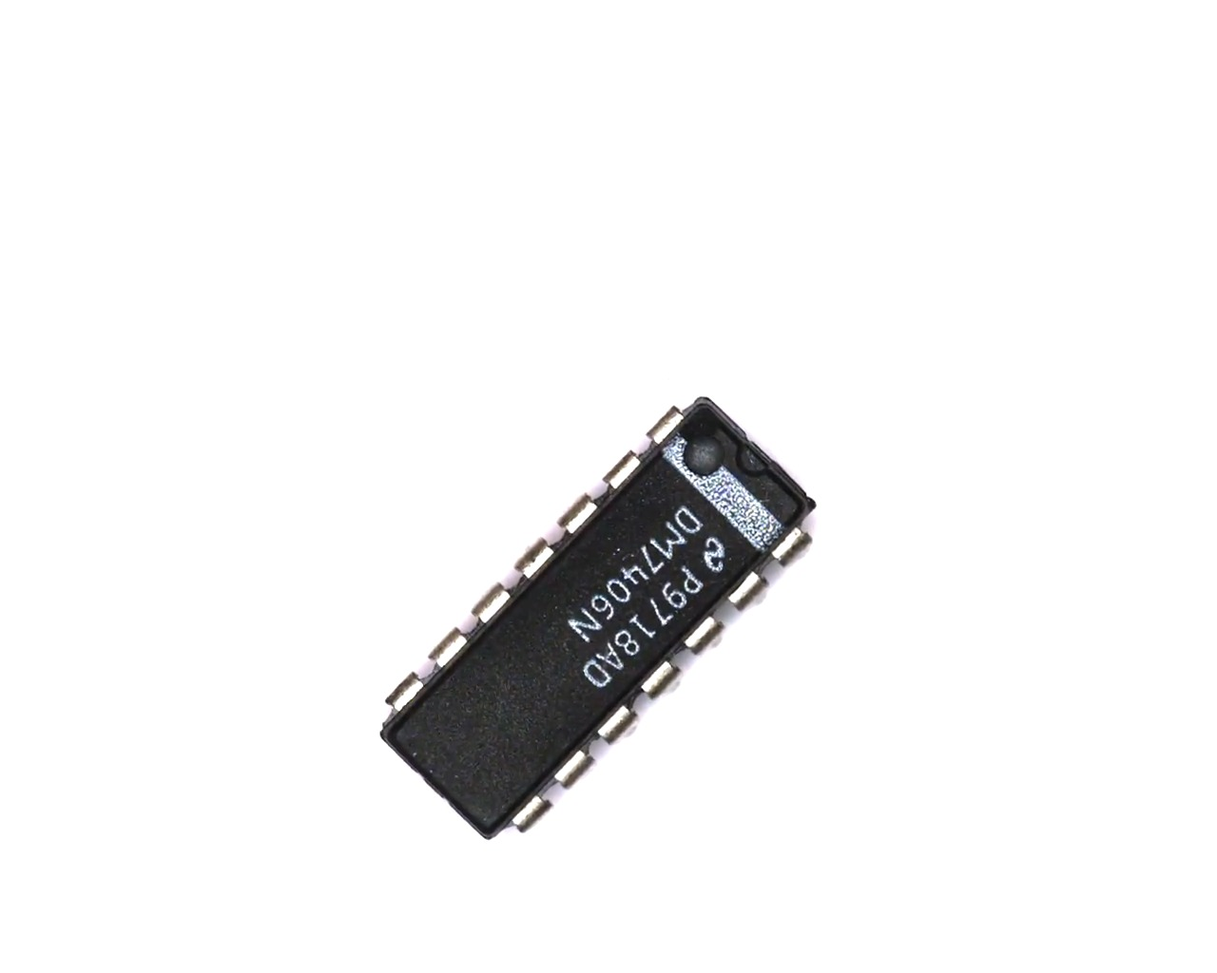IC: (358, 379, 833, 858)
notch: (729, 436, 776, 482)
